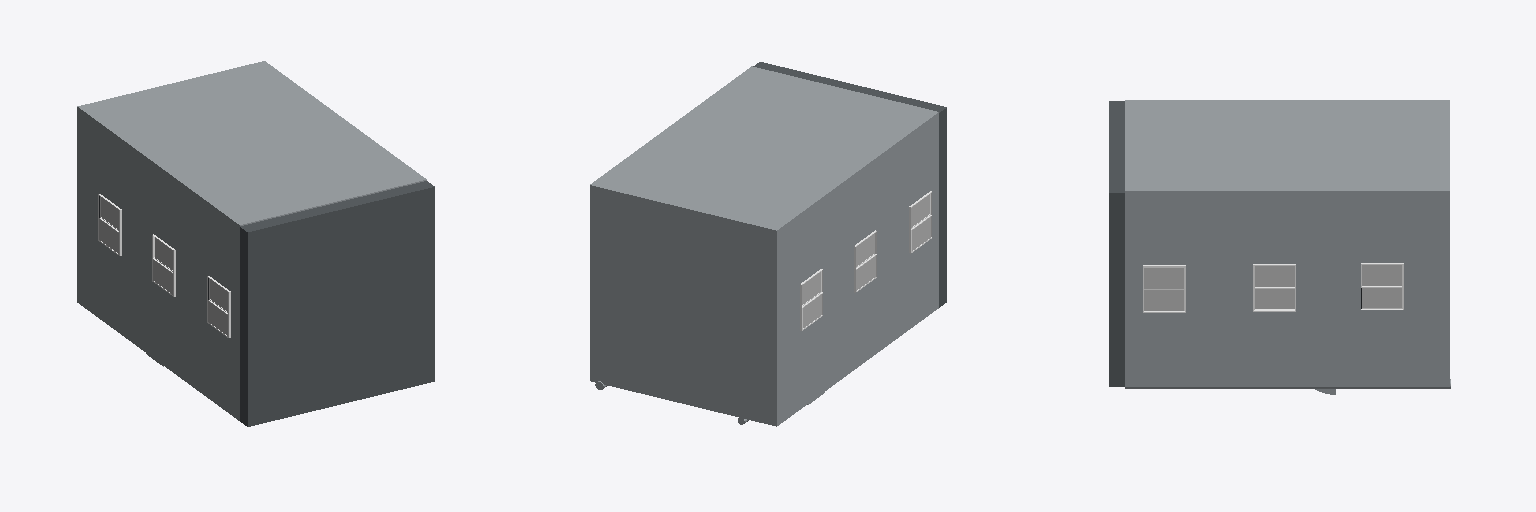
File: tinker 23.obj
The picture shows the model from 3 angles: view 1: azimuth 30°, elevation 25°; view 2: azimuth 150°, elevation 25°; view 3: azimuth 270°, elevation 25°; orthographic projection.
Parts seen in each view (by area): view 1: obj_0, obj_19, obj_11, obj_12, obj_10; view 2: obj_0, obj_19, obj_10, obj_11, obj_12; view 3: obj_0, obj_19, obj_17, obj_18, obj_16, obj_9.
Boxes of the visible parts, <box> form: obj_0: <box>77,61,426,420</box>; obj_19: <box>240,181,434,426</box>; obj_11: <box>152,234,175,296</box>; obj_12: <box>207,276,230,337</box>; obj_10: <box>98,194,121,255</box>; obj_0: <box>590,66,938,426</box>; obj_19: <box>753,62,946,307</box>; obj_10: <box>800,269,822,330</box>; obj_11: <box>854,230,876,292</box>; obj_12: <box>909,191,931,253</box>; obj_0: <box>1125,100,1449,386</box>; obj_19: <box>1109,101,1124,386</box>; obj_17: <box>1143,265,1185,312</box>; obj_18: <box>1253,264,1295,311</box>; obj_16: <box>1361,263,1403,309</box>; obj_9: <box>1125,379,1450,388</box>.
Bounding box in the file's own units: 40.9 × 45 × 63.25.